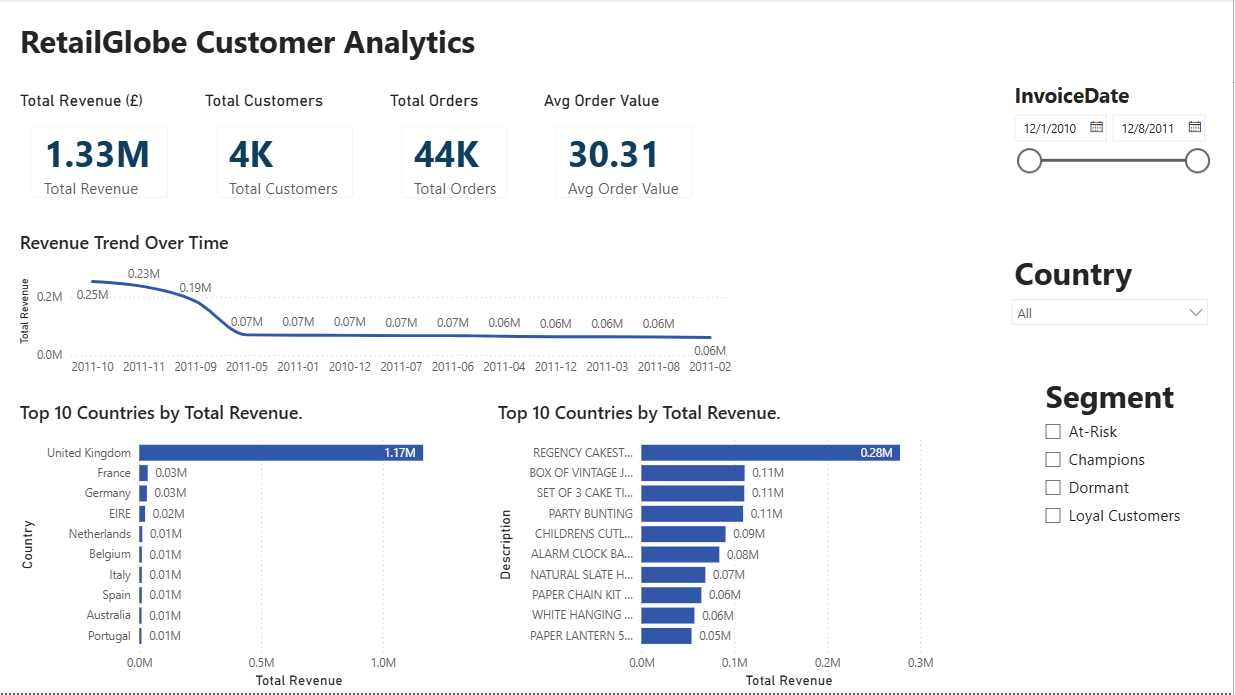

What the dashboard file says about the page in this screenshot:
{"tool":"powerbi","page":{"name":"Page 1","canvas":[1280,720],"ordinal":0},"visuals":[{"type":"cardVisual","title":"Total Revenue (£)","fields":{"Data":["online_retail_segmented.Total Revenue"]},"box":[16,96,176,128],"z":0},{"type":"cardVisual","title":"Total Customers","fields":{"Data":["online_retail_segmented.Total Customers"]},"box":[208,96,176,128],"z":1000},{"type":"cardVisual","title":"Total Orders","fields":{"Data":["online_retail_segmented.Total Orders"]},"box":[400,96,144,128],"z":2000},{"type":"cardVisual","title":"Avg Order Value","fields":{"Data":["online_retail_segmented.Avg Order Value"]},"box":[560,96,176,128],"z":3000},{"type":"lineChart","title":"Revenue Trend Over Time","fields":{"Category":["online_retail_segmented.YearMonth"],"Y":["online_retail_segmented.Total Revenue"]},"box":[16,240,752,160],"z":4000},{"type":"textbox","box":[16,16,512,64],"z":5000},{"type":"clusteredBarChart","title":"Top 10 Countries by Total Revenue.","fields":{"Y":["online_retail_segmented.Total Revenue"],"Category":["online_retail_segmented.Country"]},"box":[16,416,480,304],"z":6000},{"type":"clusteredBarChart","title":"Top 10 Countries by Total Revenue.","fields":{"Y":["online_retail_segmented.Total Revenue"],"Category":["online_retail_segmented.Description"]},"box":[512,416,480,304],"z":7000},{"type":"slicer","fields":{"Values":["online_retail_segmented.Country"]},"box":[1040,256,224,112],"z":8000},{"type":"slicer","fields":{"Values":["online_retail_segmented.InvoiceDate"]},"box":[1040,80,224,160],"z":9000},{"type":"slicer","fields":{"Values":["online_retail_segmented.Segment"]},"box":[1072,384,176,176],"z":10000}]}

Visuals, with their boxes in screenshot pixels (x1, y1, x2, y2), scaled from the page's 1280x720 canvas onto the 1235x695 screenshot:
"Total Revenue (£)" cardVisual: detection(15, 93, 185, 216)
"Total Customers" cardVisual: detection(201, 93, 370, 216)
"Total Orders" cardVisual: detection(386, 93, 525, 216)
"Avg Order Value" cardVisual: detection(540, 93, 710, 216)
"Revenue Trend Over Time" lineChart: detection(15, 232, 741, 386)
textbox: detection(15, 15, 509, 77)
"Top 10 Countries by Total Revenue." clusteredBarChart: detection(15, 402, 479, 694)
"Top 10 Countries by Total Revenue." clusteredBarChart: detection(494, 402, 957, 694)
slicer - online_retail_segmented.Country: detection(1003, 247, 1220, 355)
slicer - online_retail_segmented.InvoiceDate: detection(1003, 77, 1220, 232)
slicer - online_retail_segmented.Segment: detection(1034, 371, 1204, 541)
